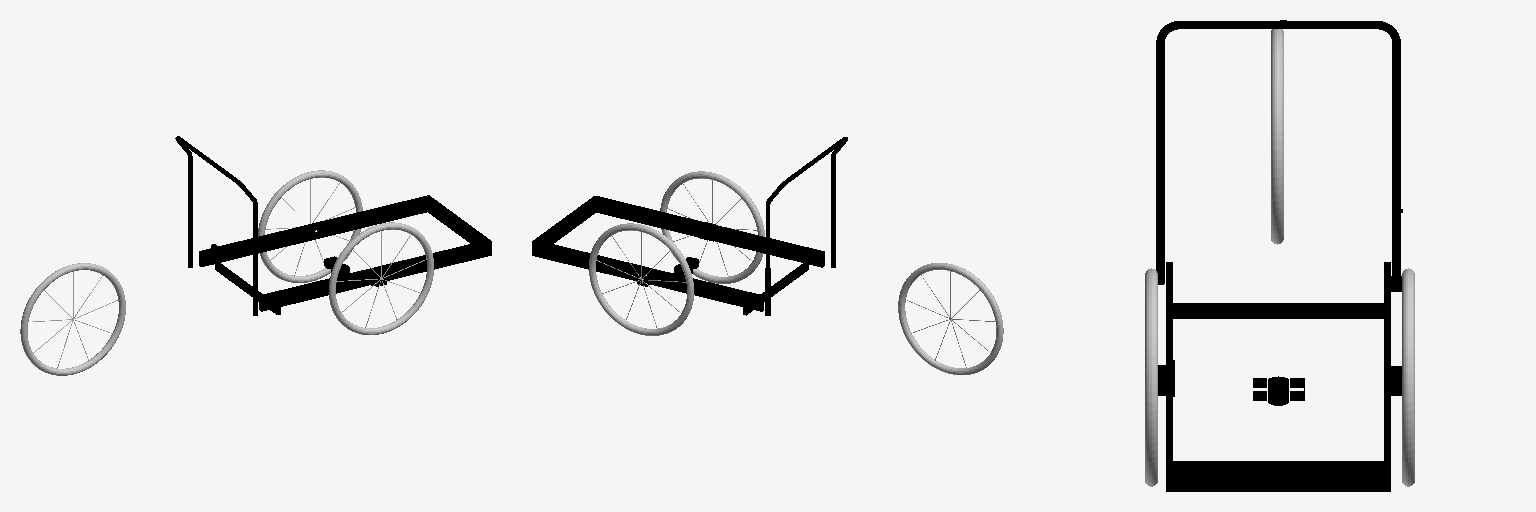
The robot description file, URDF, robot "tricycle":
<robot name="tricycle">
  <material name="grey">
    <color rgba="0.8 0.8 0.8 1"/>
  </material>
  <material name="white">
    <color rgba="1 1 1 1 "/>
  </material>
  <material name="black">
    <color rgba="0 0 0 1 "/>
  </material>

  <!-- Base link -->
  <link name="base_link">
    <inertial>
      <mass value="21.81947805717533"/>
      <origin rpy="0  0  0" xyz="0  0  0"/>
      <inertia ixx="5.886482099704385" ixy="0.05246604407007407"
               ixz="-0.14605334861846847" iyy="9.145464405182723"
               iyz="2.3093169469685275" izz="3.8627096944427937"/>
    </inertial>
    <collision name="bike_collision">
      <origin rpy="0  0  0" xyz="0  0  0"/>
      <geometry>
        <mesh
            filename="package://simulation/tricycle/meshes/collisions/bike.stl"
            scale="0.001 0.001 0.001"/>
      </geometry>
    </collision>
    <visual name="bike_visual">
      <origin rpy="0  0  0" xyz="0  0  0"/>
      <geometry>
        <mesh filename="package://simulation/tricycle/meshes/visuals/bike.stl"
              scale="0.001 0.001 0.001"/>
      </geometry>
      <material name="black"/>
    </visual>
  </link>

  <link name="left_wheel">
    <inertial>
      <mass value="13.34016392909787"/>
      <origin rpy="0  0  0" xyz="0     0.046  0"/>
      <inertia ixx="2.171169531427472" ixy="-4.661713033463371"
               ixz="-0.21322209220250452" iyy="14.34232616188963"
               iyz="-0.608246286975269" izz="15.441547158388817"/>

    </inertial>
    <collision name="left_wheel_collision">
      <origin rpy="0 0 0" xyz="0    0.046  0"/>
      <geometry>
        <mesh
            filename="package://simulation/tricycle/meshes/visuals/left_wheel.stl"
            scale="0.001 0.001 0.001"/>
      </geometry>
    </collision>
    <visual name="left_wheel_visual">
      <origin rpy="0 0 0" xyz="0 0.046  0"/>
      <geometry>
        <mesh
            filename="package://simulation/tricycle/meshes/visuals/left_wheel.stl"
            scale="0.001 0.001 0.001"/>
      </geometry>
      <material name="grey"/>
    </visual>
  </link>
  <joint name="joint_wheel_left" type="continuous">
    <parent link="front_part"/>
    <child link="left_wheel"/>
    <origin rpy="0  0  0" xyz="0.052   0.304   0.0345"/>
    <axis xyz="0 1  0"/>
    <limit effort="1000.0" velocity="10.0"/>
  </joint>
  <transmission name="trans_wheel_left">
    <type>transmission_interface/SimpleTransmission</type>
    <actuator name="$left_wheel_motor">
      <mechanicalReduction>1</mechanicalReduction>
    </actuator>
    <joint name="joint_wheel_left">
      <hardwareInterface>hardware_interface/VelocityJointInterface
      </hardwareInterface>
    </joint>
  </transmission>
  <gazebo reference="left_wheel">
    <mu1 value="20.0"/>
    <mu2 value="10.0"/>
    <kp value="10000000.0"/>
    <kd value="1.0"/>
    <material>Gazebo/Grey</material>
  </gazebo>

  <link name="right_wheel">
    <inertial>
      <mass value="13.34016392909787"/>
      <origin rpy="0  0  0" xyz="0    -0.004  0"/>
      <inertia ixx="2.097317024732184" ixy="4.55515786054409"
               ixz="0.2083483651538148" iyy="14.342326161889634"
               iyz="-0.6082462869756708" izz="15.367694651693467"/>
    </inertial>
    <collision name="right_wheel_collision">
      <origin rpy="0 0 0" xyz="0    -0.004 0"/>
      <geometry>
        <mesh
            filename="package://simulation/tricycle/meshes/visuals/right_wheel.stl"
            scale="0.001 0.001 0.001"/>
      </geometry>
    </collision>
    <visual name="right_wheel_visual">
      <origin rpy="0 0 0" xyz="0    -0.004 0"/>
      <geometry>
        <mesh
            filename="package://simulation/tricycle/meshes/visuals/right_wheel.stl"
            scale="0.001 0.001 0.001"/>
      </geometry>
      <material name="grey"/>
    </visual>
  </link>
  <joint name="joint_wheel_right" type="continuous">
    <parent link="front_part"/>
    <child link="right_wheel"/>
    <origin rpy="0  0  0" xyz="0.052  -0.338   0.0345"/>
    <axis xyz="0 1 0"/>
    <limit effort="1000.0" velocity="10.0"/>
  </joint>
  <transmission name="trans_wheel_right">
    <type>transmission_interface/SimpleTransmission</type>
    <actuator name="$right_wheel_motor">
      <mechanicalReduction>1</mechanicalReduction>
    </actuator>
    <joint name="joint_wheel_right">
      <hardwareInterface>hardware_interface/VelocityJointInterface
      </hardwareInterface>
    </joint>
  </transmission>
  <gazebo reference="right_wheel">
    <mu1 value="20.0"/>
    <mu2 value="10.0"/>
    <kp value="10000000.0"/>
    <kd value="1.0"/>
    <material>Gazebo/Grey</material>
  </gazebo>

  <link name="front_part">
    <inertial>
      <mass value="16.810672465638184"/>
      <origin rpy="0  0  0" xyz="-0.23003 -0.01038  0.20527"/>
      <inertia ixx="3.2092296528945967" ixy="0.18113615628275678"
               ixz="0.006723073533121614" iyy="14.66296026711583"
               iyz="-1.241970673631743" izz="13.91291969418297"/>
    </inertial>
    <collision name="front_part_collision">
      <origin rpy="0  0  0" xyz="-0.23003 -0.01038  0.20527"/>
      <geometry>
        <mesh
            filename="package://simulation/tricycle/meshes/collisions/front_part.stl"
            scale="0.001 0.001 0.001"/>
      </geometry>
    </collision>
    <visual name="front_part_visual">
      <origin rpy="0 0 0" xyz="-0.23003 -0.01038 0.20527"/>
      <geometry>
        <mesh
            filename="package://simulation/tricycle/meshes/visuals/front_part.stl"
            scale="0.001 0.001 0.001"/>
      </geometry>
      <material name="black"/>
    </visual>
  </link>
  <joint name="joint_front" type="revolute">
    <parent link="base_link"/>
    <child link="front_part"/>
    <origin rpy="0  0  0" xyz="0.94642  0       0.01116"/>
    <axis xyz="0 0 1"/>
    <limit effort="1000" lower="-0.78" upper="0.78"
           velocity=".5"/>
  </joint>
  <transmission name="trans_front">
    <type>transmission_interface/SimpleTransmission</type>
    <actuator name="$front_motor">
      <mechanicalReduction>1</mechanicalReduction>
    </actuator>
    <joint name="joint_front">
      <hardwareInterface>hardware_interface/VelocityJointInterface
      </hardwareInterface>
    </joint>
  </transmission>

  <link name="wheel_back">
    <inertial>
      <mass value="13.340163929098493"/>
      <origin rpy="0  0  0" xyz="0    -0.069  0"/>
      <inertia ixx="0.5419188938328757" ixy="-0.025425846119324413"
               ixz="0.0023401868697195947" iyy="4.894303401629517"
               iyz="0.35393127318782075" izz="4.354763468464214"/>
    </inertial>
    <collision name="wheel_back_collision">
      <origin rpy="0 0 0" xyz="0    -0.069 0"/>
      <geometry>
        <mesh
            filename="package://simulation/tricycle/meshes/visuals/wheel_back.stl"
            scale="0.001 0.001 0.001"/>
      </geometry>
    </collision>
    <visual name="wheel_back_visual">
      <origin rpy="0 0 0" xyz="0    -0.069 0"/>
      <geometry>
        <mesh
            filename="package://simulation/tricycle/meshes/visuals/wheel_back.stl"
            scale="0.001 0.001 0.001"/>
      </geometry>
      <material name="grey"/>
    </visual>
  </link>
  <joint name="joint_wheel_back" type="continuous">
    <parent link="base_link"/>
    <child link="wheel_back"/>
    <origin rpy="0  0  0" xyz="-0.53689  0.06544  0.04941"/>
    <axis xyz="0 1  0"/>
    <limit effort="1000.0" velocity="10.0"/>
  </joint>
  <transmission name="trans_wheel_back">
    <type>transmission_interface/SimpleTransmission</type>
    <actuator name="back_wheel_motor">
      <mechanicalReduction>1</mechanicalReduction>
    </actuator>
    <joint name="joint_wheel_back">
      <hardwareInterface>hardware_interface/VelocityJointInterface
      </hardwareInterface>
    </joint>
  </transmission>
  <gazebo reference="wheel_back">
    <mu1 value="20.0"/>
    <mu2 value="10.0"/>
    <kp value="10000000.0"/>
    <kd value="1.0"/>
    <material>Gazebo/Grey</material>
  </gazebo>
  <gazebo>
    <plugin name="gazebo_ros_control" filename="libgazebo_ros_control.so">
      <robotNamespace>/</robotNamespace>
      <legacyModeNS>true</legacyModeNS>
    </plugin>
  </gazebo>
</robot>

--- Render facts (derived) ---
Views: 3 orthographic renders of the robot side by side, from view 1: azimuth 30°, elevation 25°; view 2: azimuth 150°, elevation 25°; view 3: azimuth 270°, elevation 25°.
Model tricycle with 5 links and 4 joints (1 revolute, 3 continuous), rooted at base_link, posed all joints at 0.
Links seen in each view (by area): view 1: front_part, right_wheel, wheel_back, left_wheel; view 2: front_part, left_wheel, wheel_back, right_wheel; view 3: front_part, left_wheel, right_wheel, wheel_back.
Boxes of the visible links, x1=… form: front_part: x1=175, y1=136, x2=491, y2=315; right_wheel: x1=329, y1=222, x2=433, y2=334; wheel_back: x1=20, y1=263, x2=125, y2=375; left_wheel: x1=258, y1=170, x2=362, y2=282; front_part: x1=532, y1=137, x2=847, y2=315; left_wheel: x1=589, y1=223, x2=693, y2=335; wheel_back: x1=898, y1=263, x2=1003, y2=374; right_wheel: x1=660, y1=171, x2=764, y2=283; front_part: x1=1156, y1=20, x2=1402, y2=491; left_wheel: x1=1402, y1=268, x2=1414, y2=486; right_wheel: x1=1145, y1=268, x2=1157, y2=486; wheel_back: x1=1271, y1=29, x2=1283, y2=244.
Bounding box of the posed robot: 2.47 × 0.7266 × 0.9901 m (x, y, z).
Meshes: 5 distinct files referenced, 4 mesh visuals loaded (4 binary STL); not drawn: 1 (reference not matched to a file when rendering).